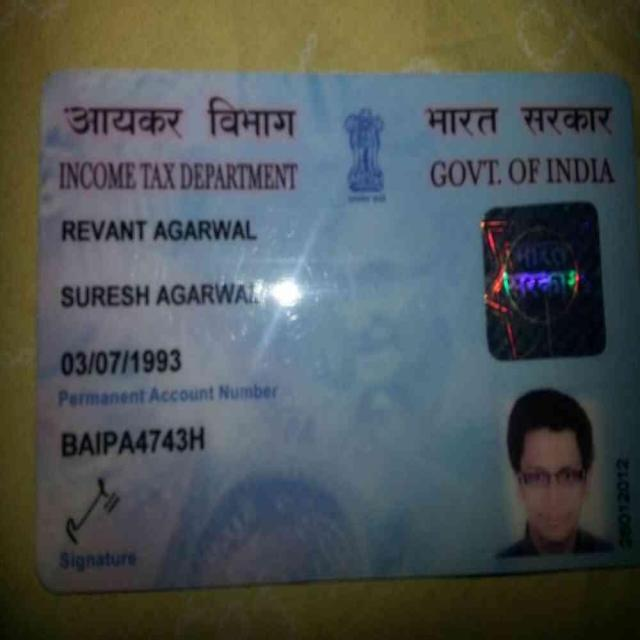pan_card: (40, 71, 639, 586)
